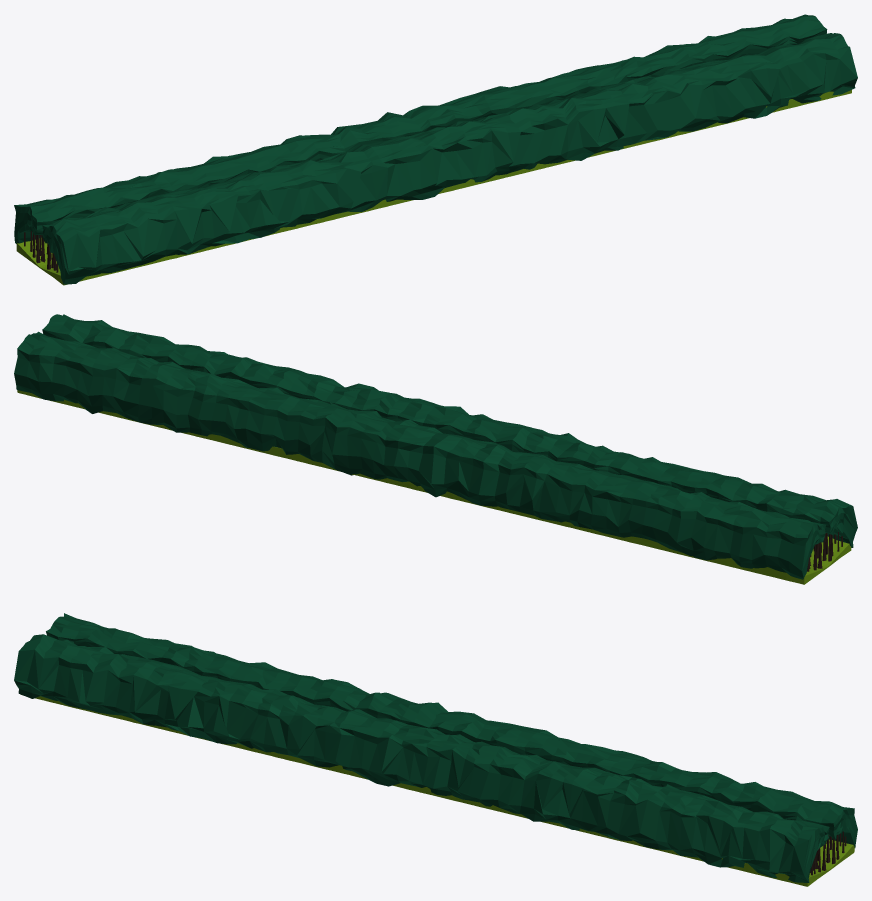
Rendered from forest.fbx.
3 renders of one model, top to bottom at view 1: azimuth 30°, elevation 25°; view 2: azimuth 150°, elevation 25°; view 3: azimuth 330°, elevation 25°, orthographic.
Visible parts, largest first — view 1: Plane.619, Forest.floor, Forest.trunks; view 2: Plane.619, Forest.floor, Forest.trunks; view 3: Plane.619, Forest.floor, Forest.trunks.
Boxes of the visible parts, box(x1,y1,x2,y2) form: Plane.619: box(14, 14, 857, 284); Forest.floor: box(16, 90, 851, 285); Forest.trunks: box(24, 231, 58, 272); Plane.619: box(14, 314, 857, 579); Forest.floor: box(17, 390, 851, 584); Forest.trunks: box(807, 532, 842, 571); Plane.619: box(14, 613, 857, 882); Forest.floor: box(21, 694, 854, 886); Forest.trunks: box(810, 831, 846, 875).
Bounding box in the file's own units: 52.36 × 403 × 28.16.
